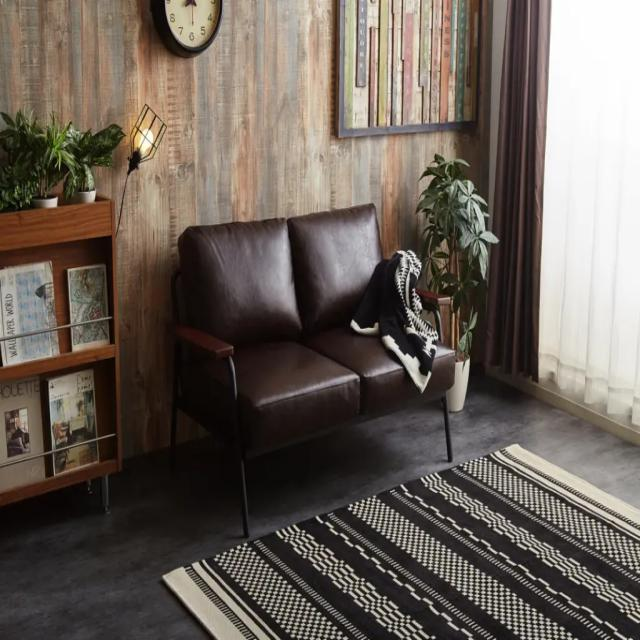vintage shelf: (0, 192, 126, 518)
vintage sofa: (173, 200, 458, 508)
